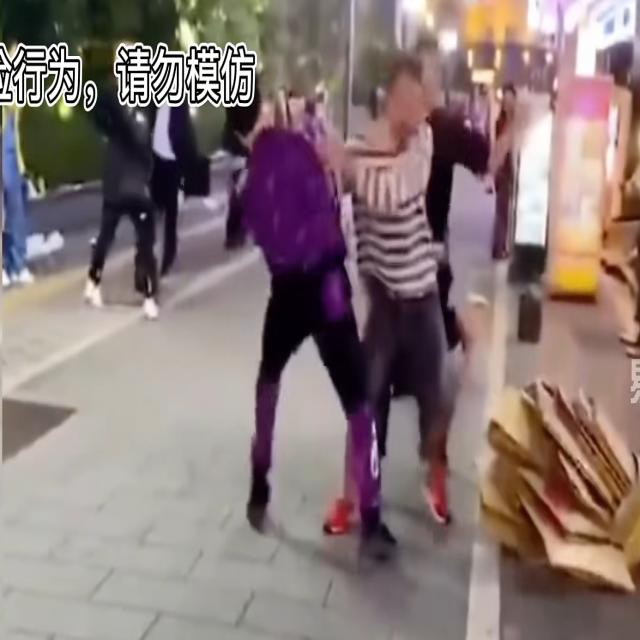fight: (217, 68, 441, 254)
